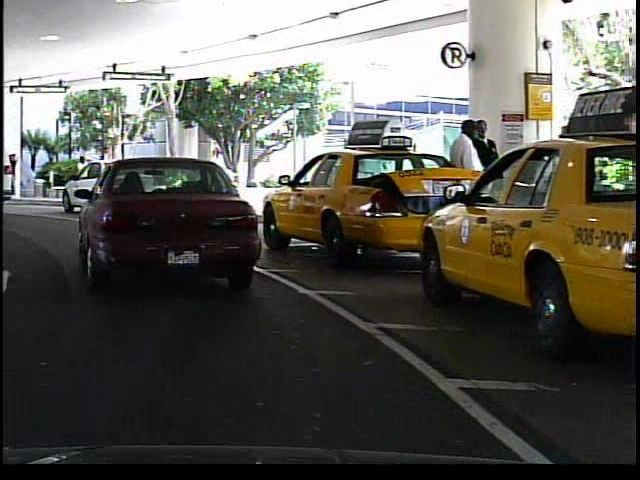person: (447, 115, 488, 244), (472, 115, 509, 239), (68, 152, 93, 197)
